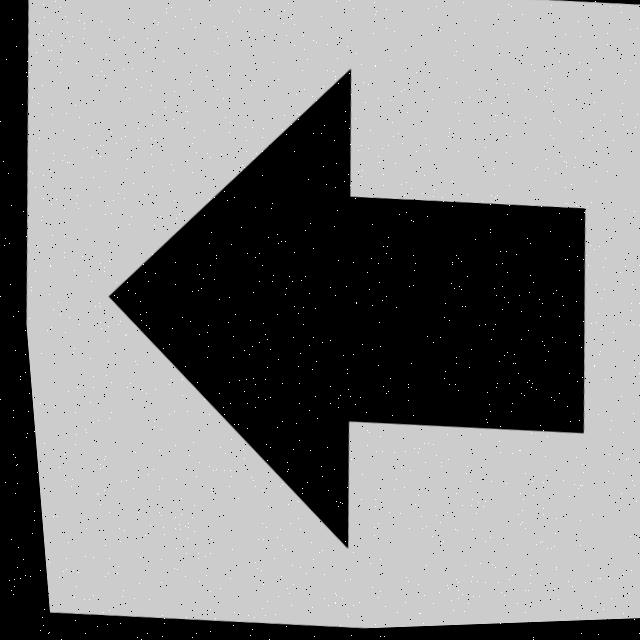LEFT: (105, 76, 580, 541)
